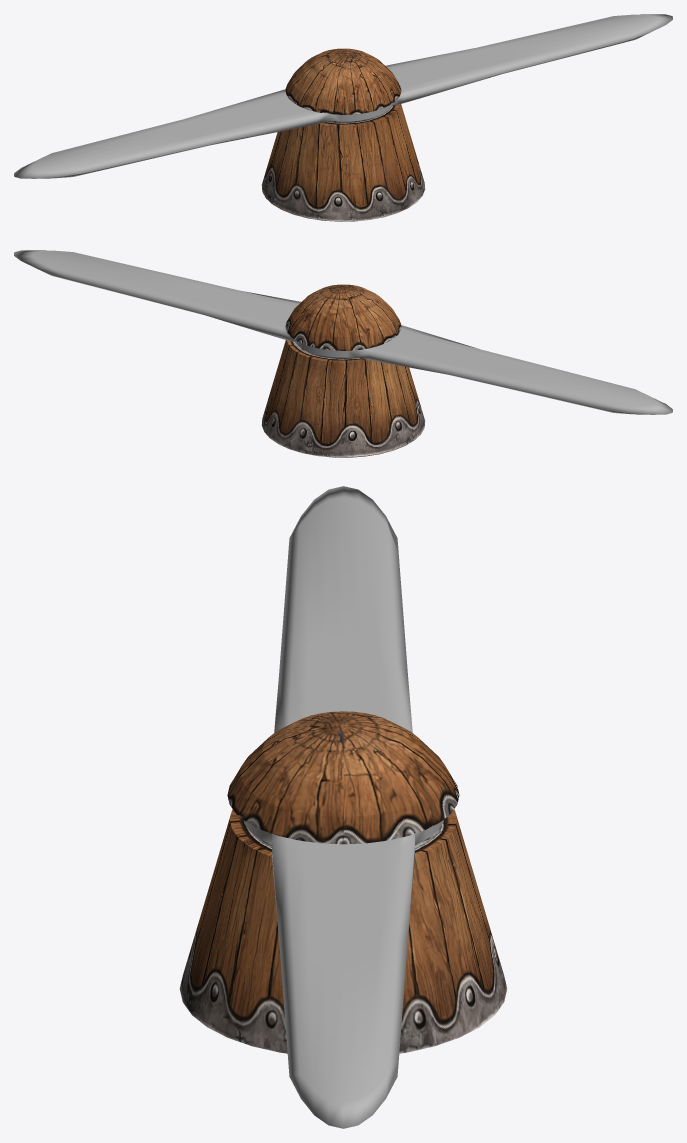
The model's file is Spining.fbx.
The picture shows the model from 3 angles, top to bottom: view 1: azimuth 30°, elevation 25°; view 2: azimuth 150°, elevation 25°; view 3: azimuth 270°, elevation 25°; orthographic projection. The views are drawn at different scales.
Visible parts, largest first — view 1: Spining.001, CuchillaDoble.001; view 2: Spining.001, CuchillaDoble.001; view 3: CuchillaDoble.001, Spining.001.
Boxes of the visible parts, x1,y1,x2,y2 form: Spining.001: (261, 48, 425, 221); CuchillaDoble.001: (14, 14, 672, 178); Spining.001: (261, 284, 425, 457); CuchillaDoble.001: (14, 250, 672, 414); CuchillaDoble.001: (243, 486, 443, 1128); Spining.001: (179, 711, 507, 1053).
Size of the model in its own units: 1.43 by 0.2793 by 0.309.
